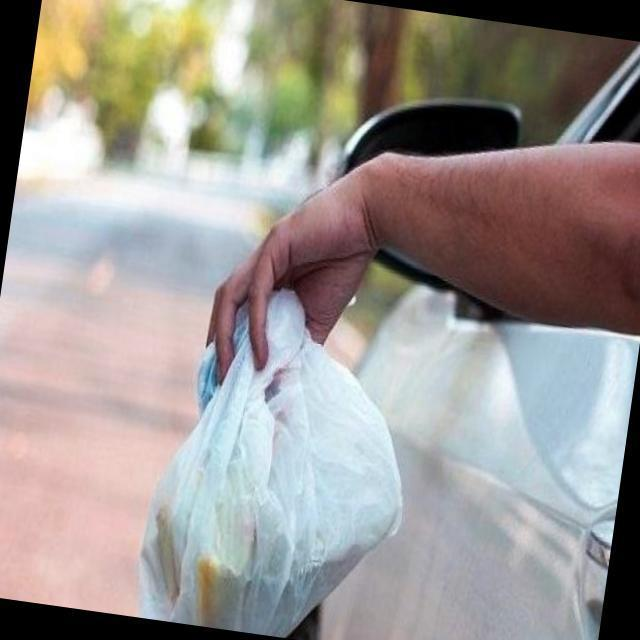garbage: (128, 265, 434, 640)
